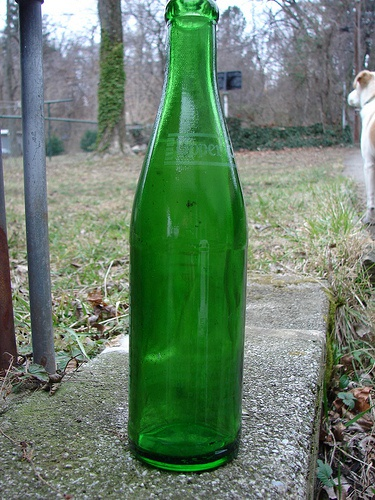emptybottle: (128, 2, 246, 470)
